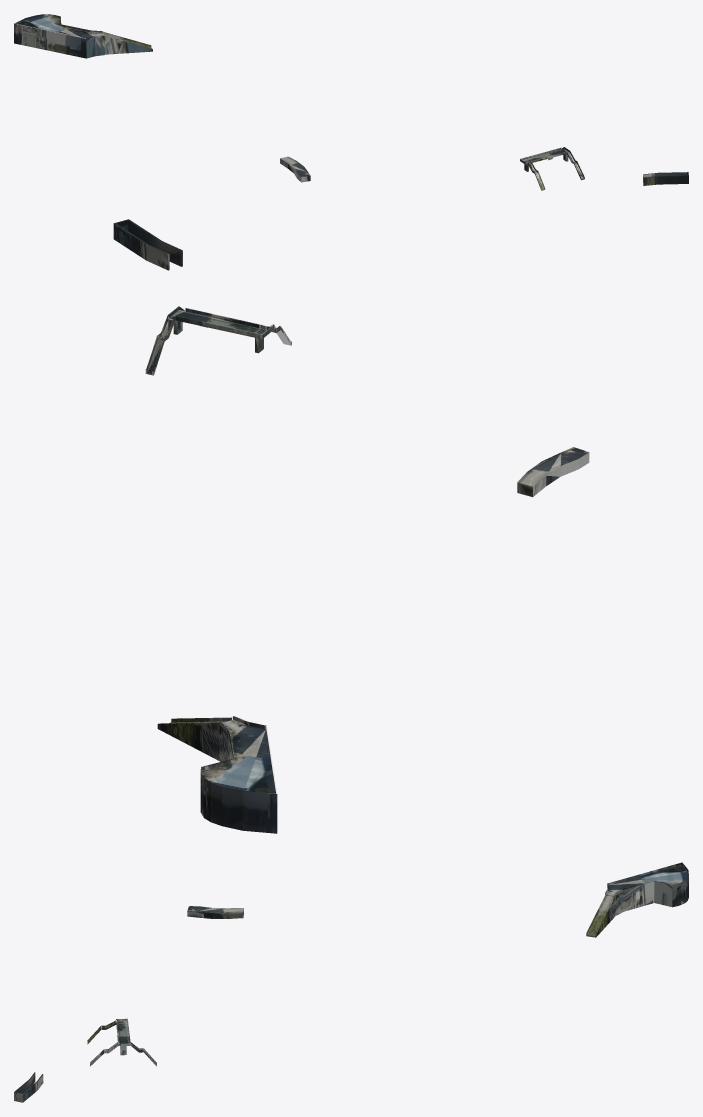
Rendered from data5.glb.
3 views of the same model, one above another, from view 1: azimuth 30°, elevation 25°; view 2: azimuth 150°, elevation 25°; view 3: azimuth 270°, elevation 25° (orthographic). The views are drawn at different scales.
Bounding box in the file's own units: 235 × 21.53 × 326.
2 materials, 1 textured.
